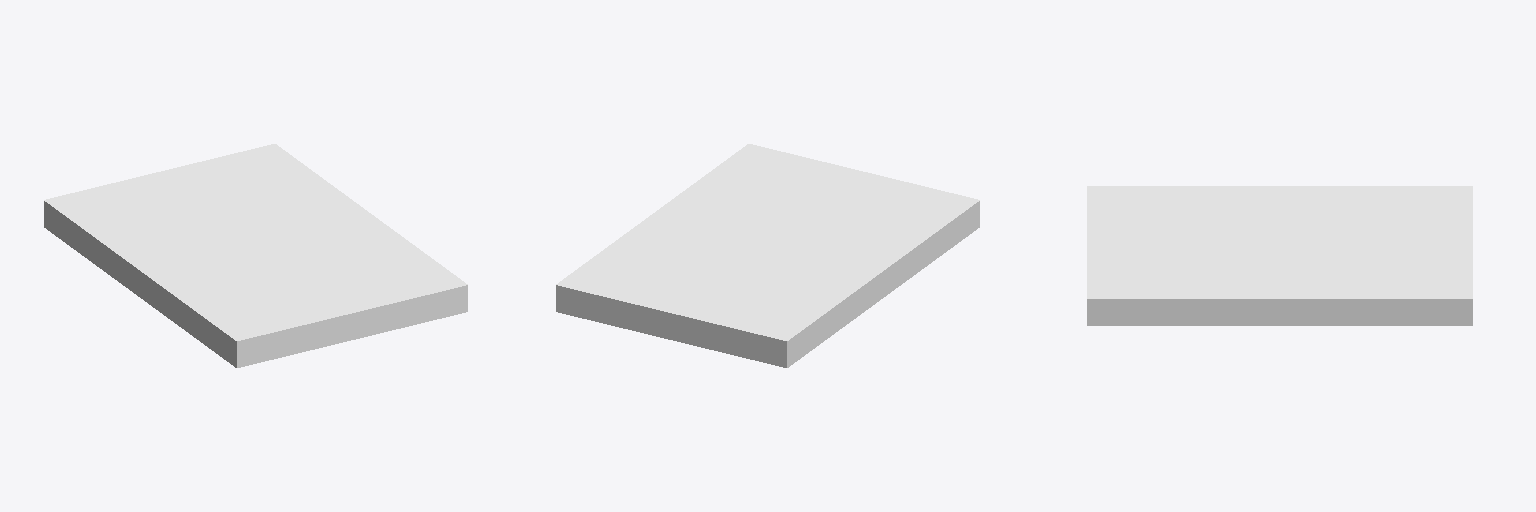
Rendered from ipad.obj.
3 views of the same model, side by side, from view 1: azimuth 30°, elevation 25°; view 2: azimuth 150°, elevation 25°; view 3: azimuth 270°, elevation 25° (orthographic).
Parts seen in each view (by area): view 1: object 1; view 2: object 1; view 3: object 1.
Boxes of the visible parts, x1,y1,x2,y2 form: object 1: [44, 144, 467, 367]; object 1: [556, 144, 979, 367]; object 1: [1087, 186, 1472, 325].
Bounding box in the file's own units: 0.9 × 0.1 × 1.3.